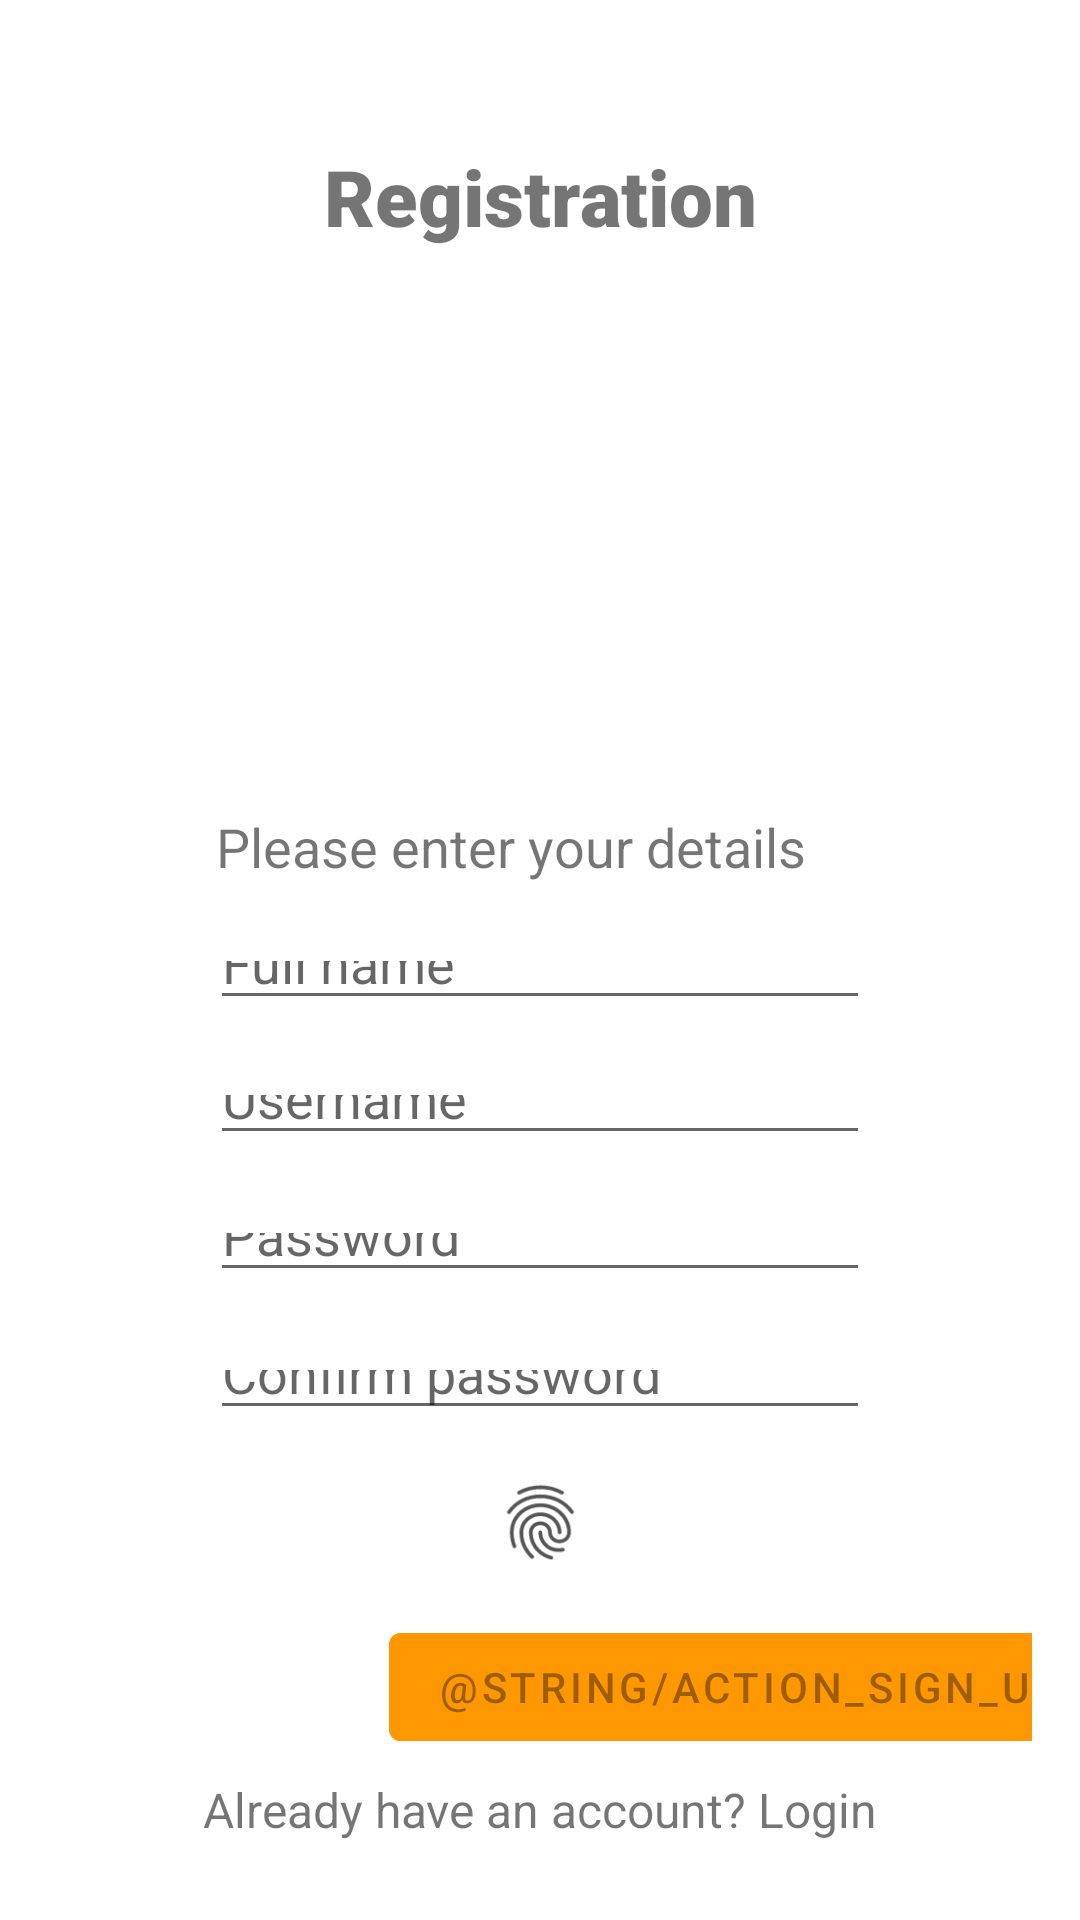

Where to tap for icons on this 1080*1920 app screen, as (x,y):
fingerprint: (540,1522)
